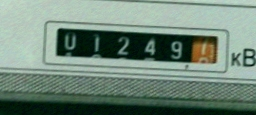0: (62, 31, 77, 52)
1: (89, 33, 102, 54)
2: (114, 35, 131, 58)
4: (143, 37, 157, 57)
7: (197, 36, 211, 57)
9: (169, 40, 183, 62)
screen: (39, 17, 233, 77)
